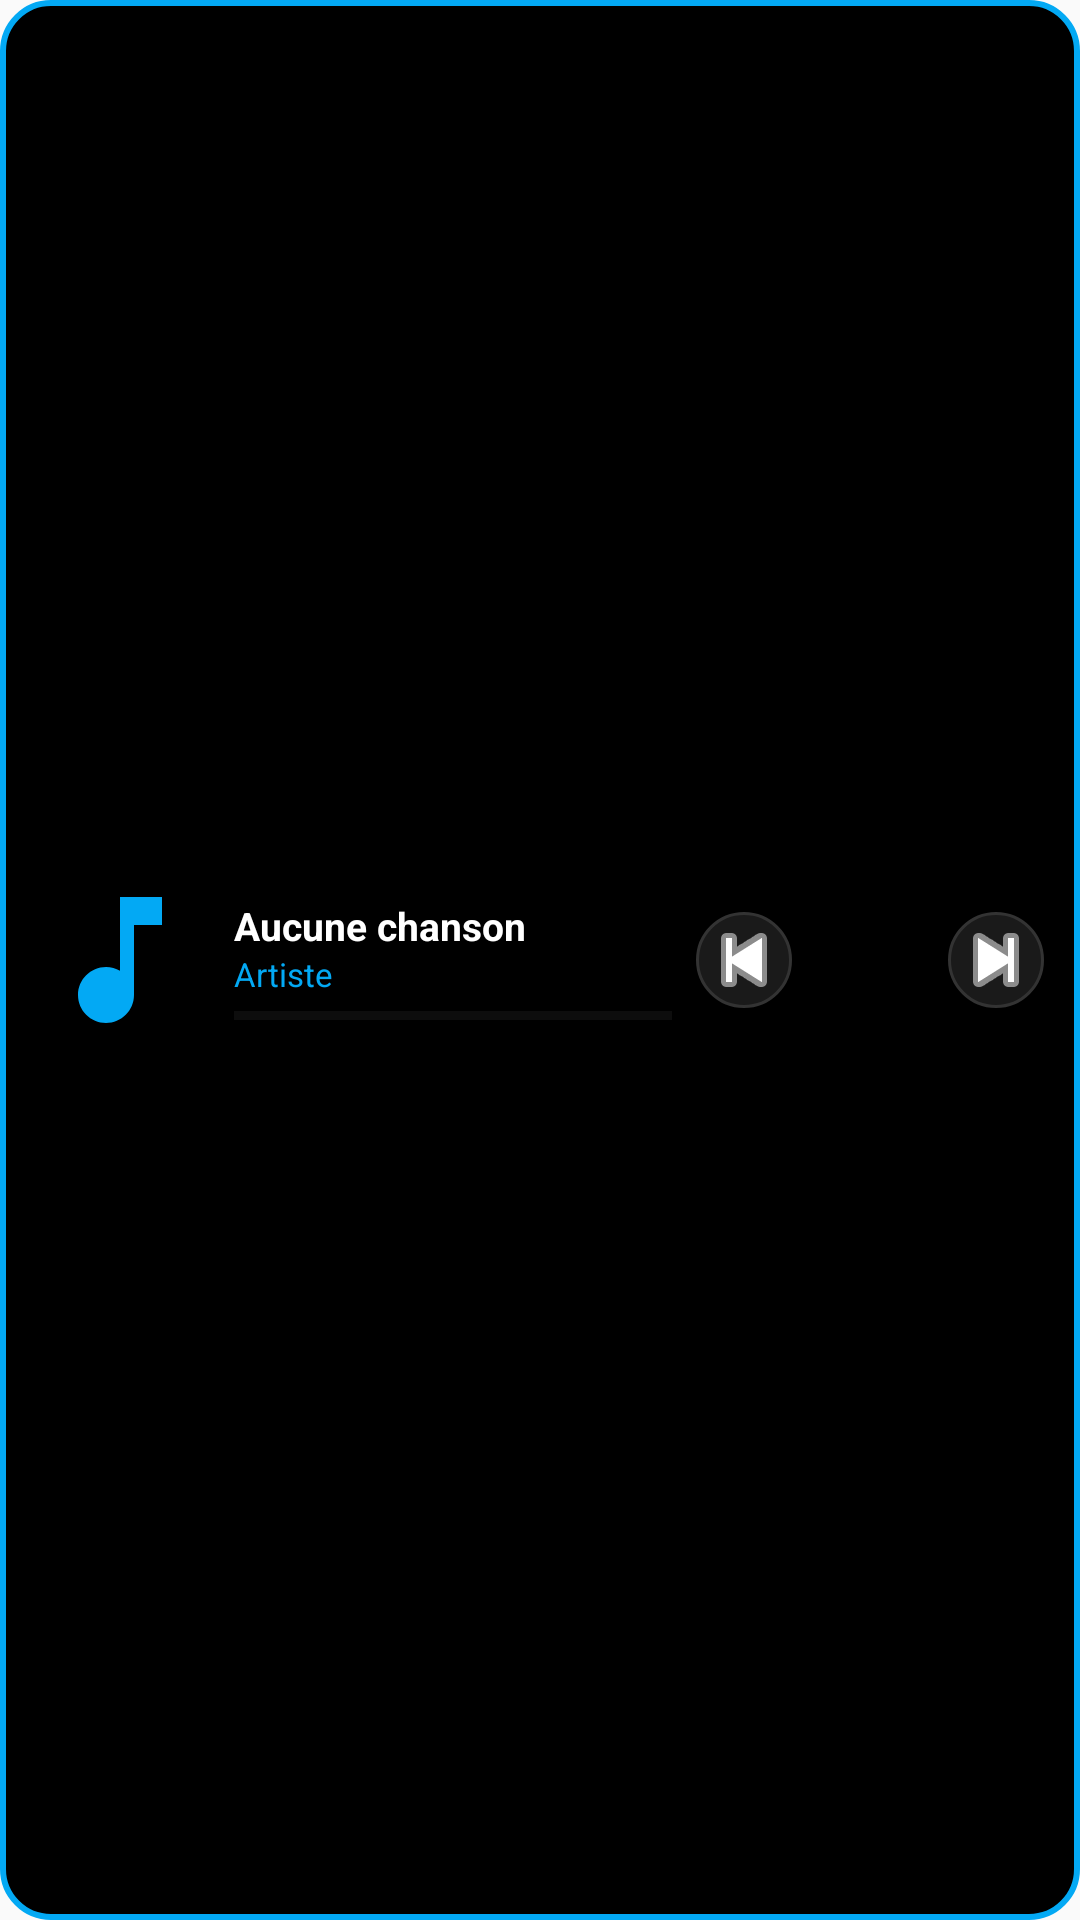

Icons on this 1080px x 1920px Android screen, each with the point to tap as [x,y]:
music note widget: [120,960]
next: [996,960]
previous: [744,960]
